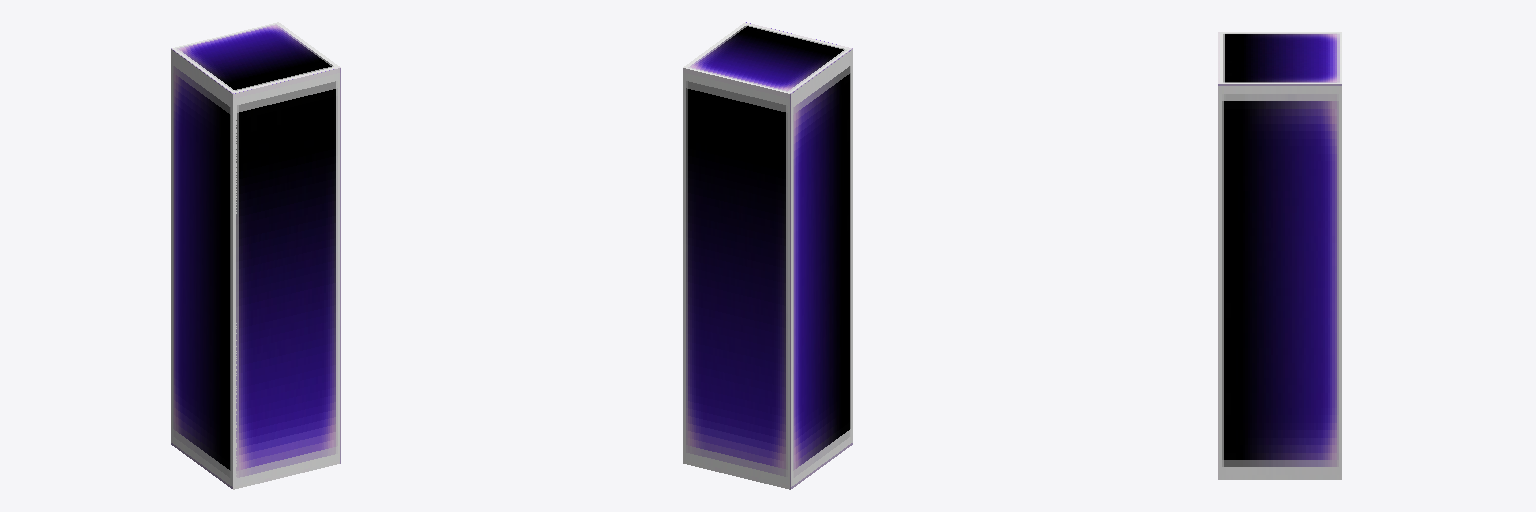
The picture shows the model from 3 angles: view 1: azimuth 30°, elevation 25°; view 2: azimuth 150°, elevation 25°; view 3: azimuth 270°, elevation 25°; orthographic projection.
Visible parts, largest first — view 1: Cube.008; view 2: Cube.008; view 3: Cube.008.
Part boxes in pixels (left/top/right/bottom): Cube.008: left=171, top=22, right=340, bottom=489; Cube.008: left=683, top=22, right=852, bottom=489; Cube.008: left=1218, top=32, right=1341, bottom=479.
Bounding box in the file's own units: 1 × 3.5 × 1.
Materials: 1 (1 with a texture image).